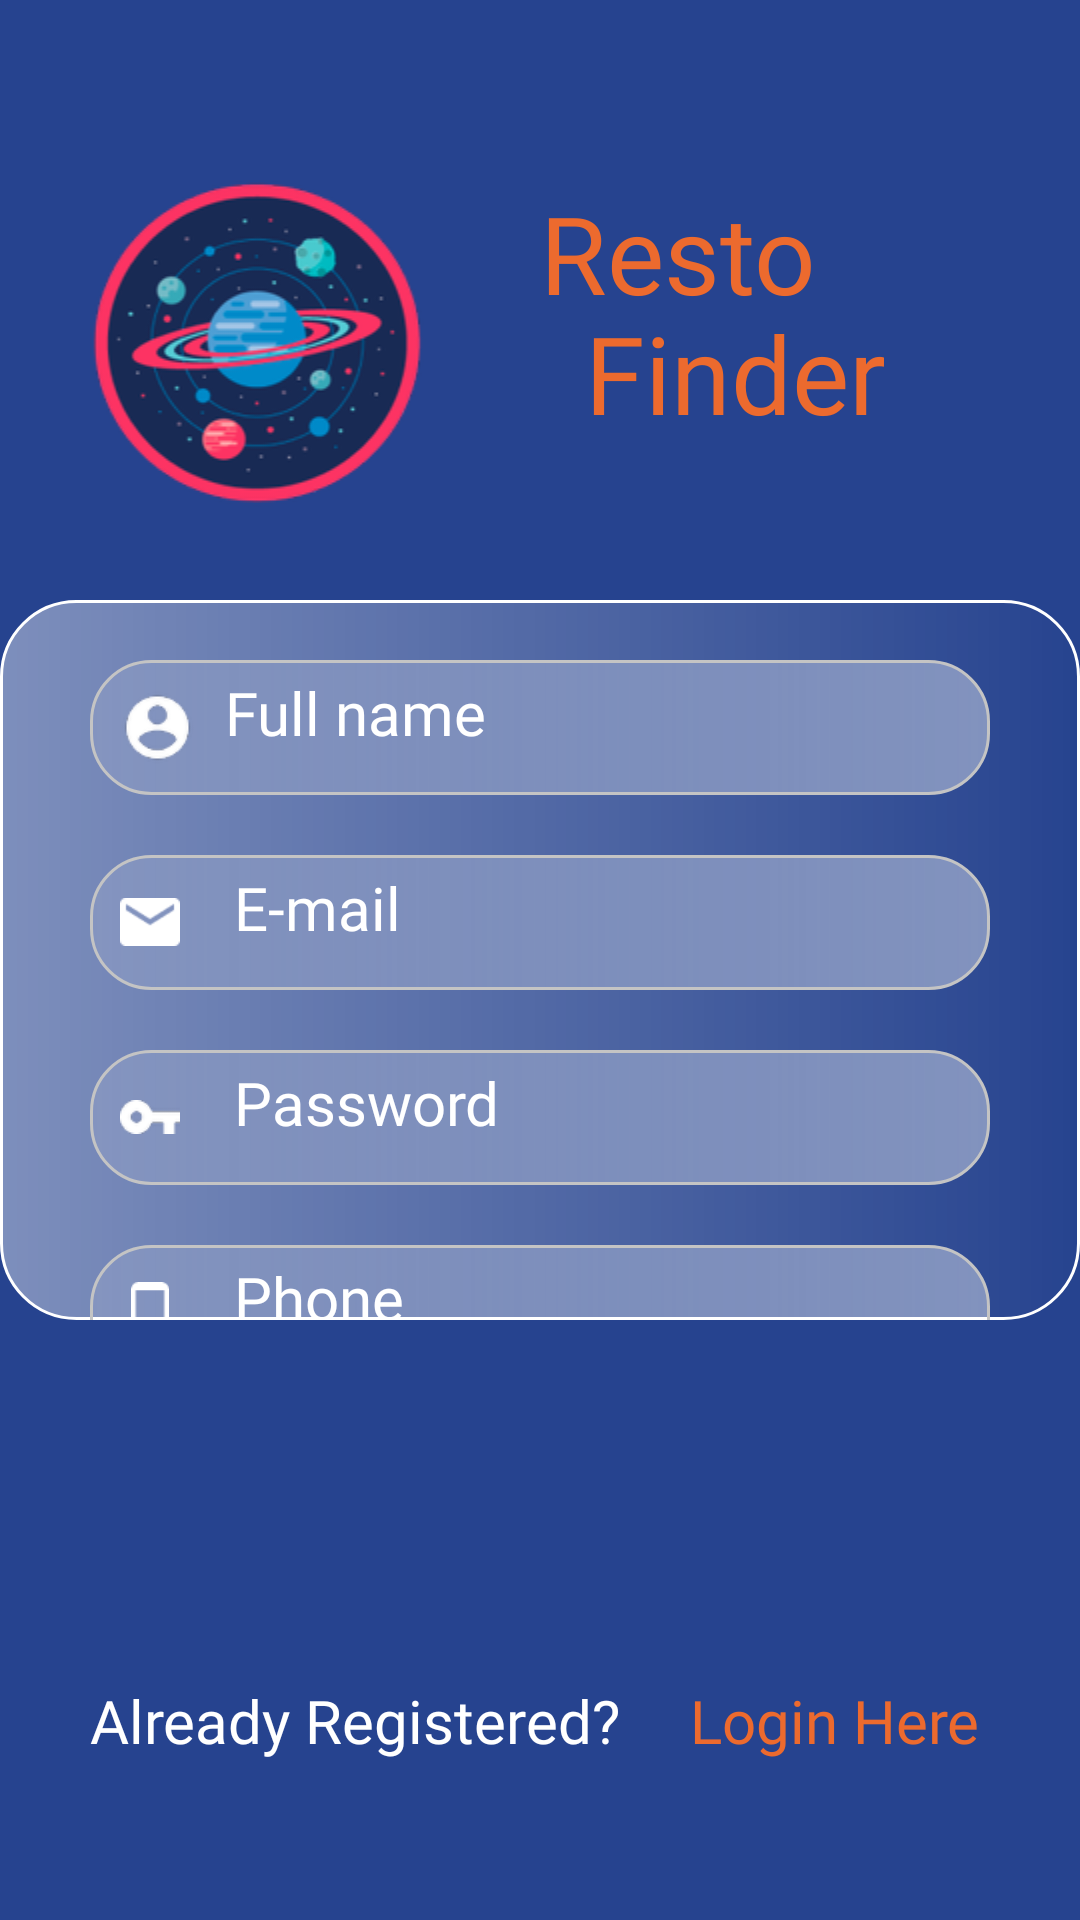

Point at icon controls on the screen. Image size 1080 × 1920, points as [x,y].
username: [157,727]
